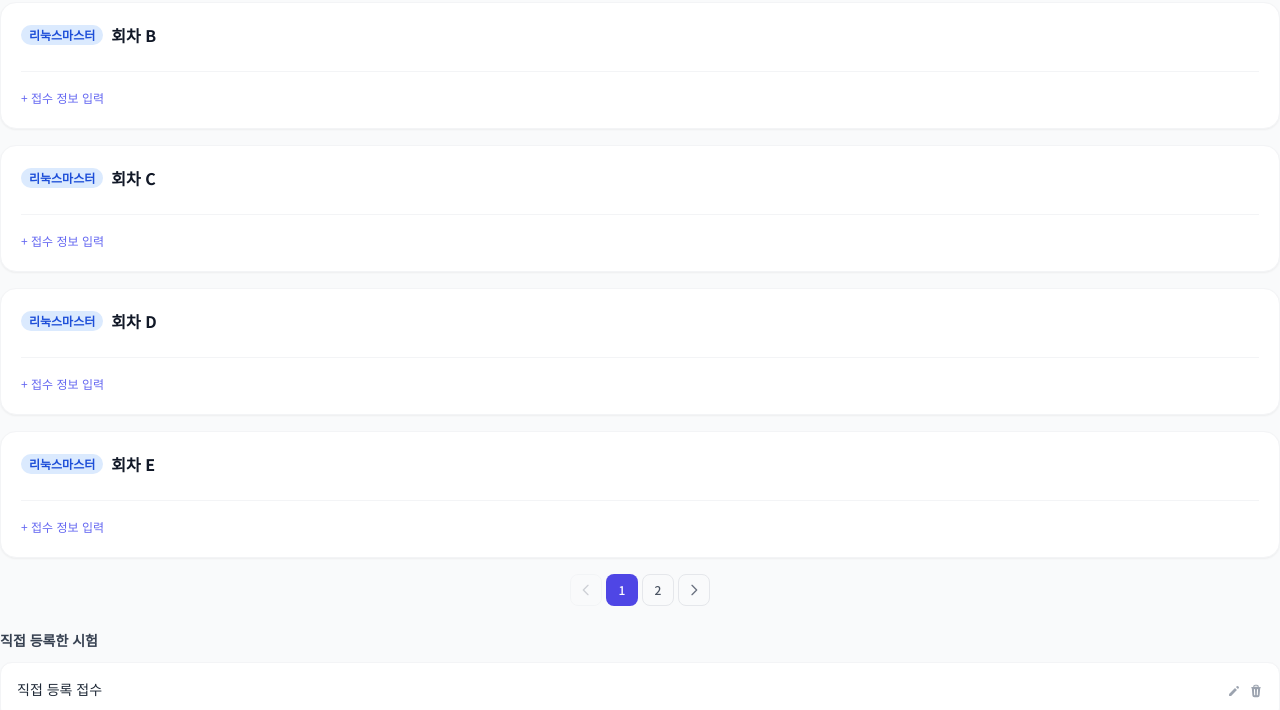
Scenario: 시험 정보 페이지네이션 › 시험 유형 변경 시 첫 페이지로 돌아가고 빈 유형에는 페이지 이동을 숨긴다
(page scrolled)
Click the button named "다음 페이지" at (694, 590), box [678, 574, 710, 606]
(page scrolled)
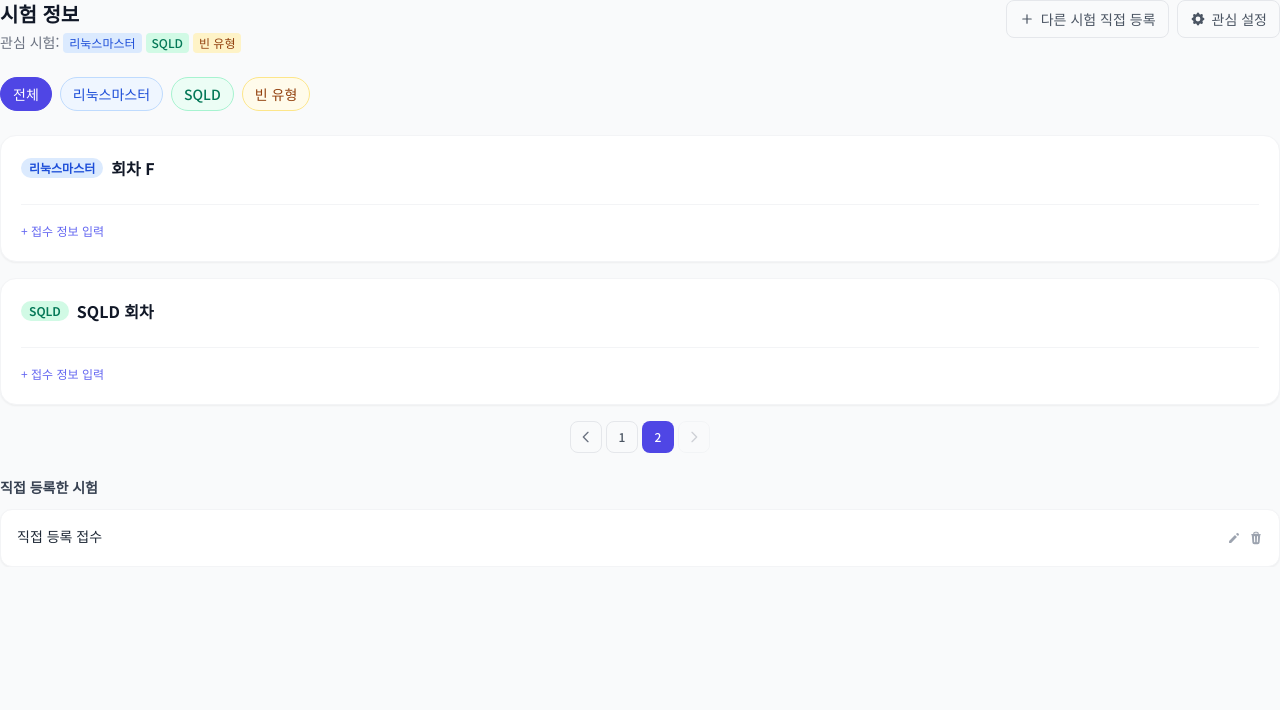
Click the button "리눅스마스터" at (111, 94), box [60, 77, 163, 111]
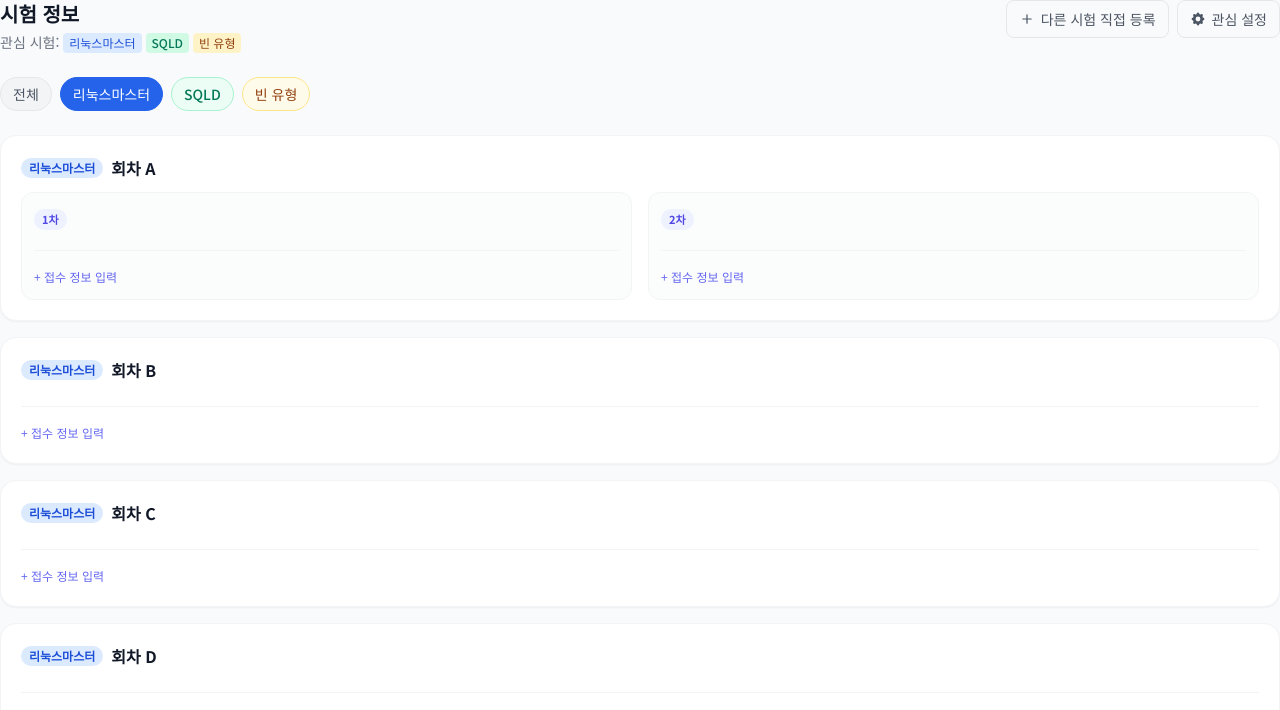
expect the heading "회차 A" is shown: met, box [111, 156, 156, 180]
Click the button "빈 유형" at (276, 94), box [242, 77, 310, 111]
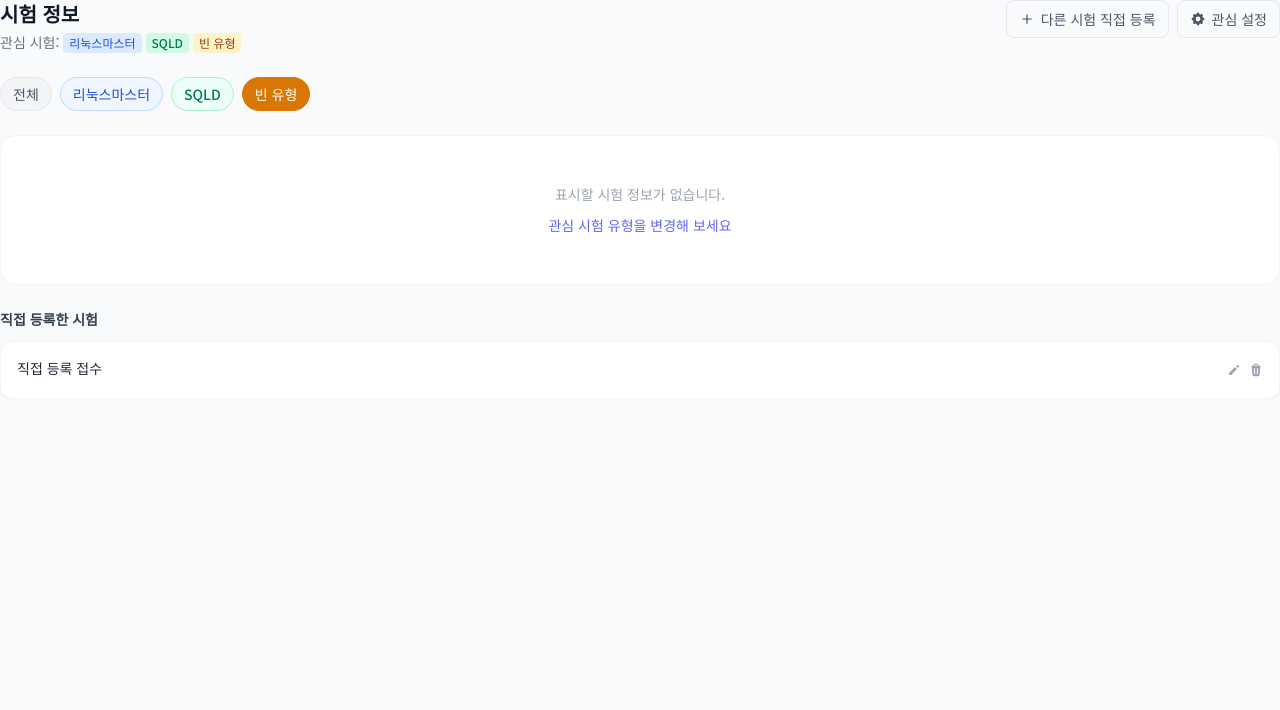
expect the text "표시할 시험 정보가 없습니다." is shown: met, box [555, 184, 725, 204]
